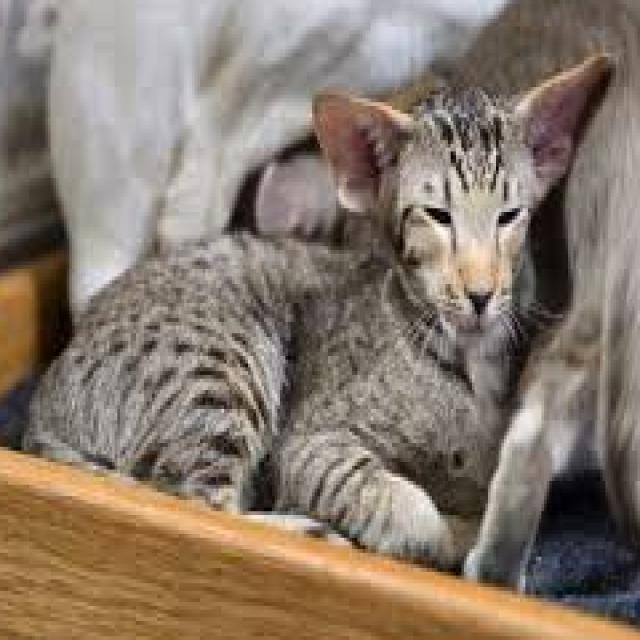Oriental: (9, 50, 621, 586)
